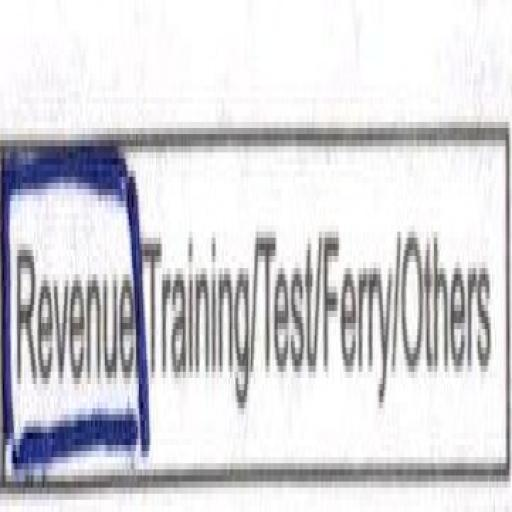check: (0, 79, 148, 512)
